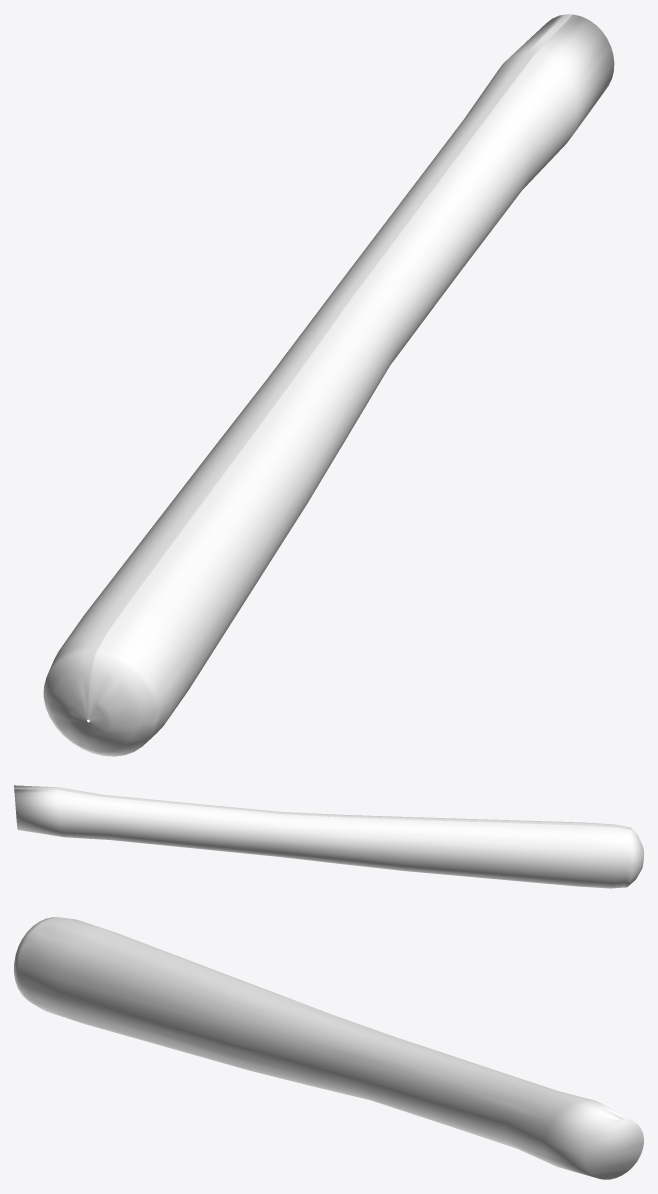
The model's file is hk_arm_left0_iselda.obj.
3 renders of one model, top to bottom at view 1: azimuth 30°, elevation 25°; view 2: azimuth 150°, elevation 25°; view 3: azimuth 270°, elevation 25°, orthographic. The views are drawn at different scales.
Visible parts, largest first — view 1: Object_53_HeadIselda; view 2: Object_53_HeadIselda; view 3: Object_53_HeadIselda.
Boxes of the visible parts, x1,y1,x2,y2 form: Object_53_HeadIselda: (43,14,614,756); Object_53_HeadIselda: (14,785,643,888); Object_53_HeadIselda: (14,917,643,1179).
Size of the model in its own units: 0.4734 by 0.1302 by 0.3779.
